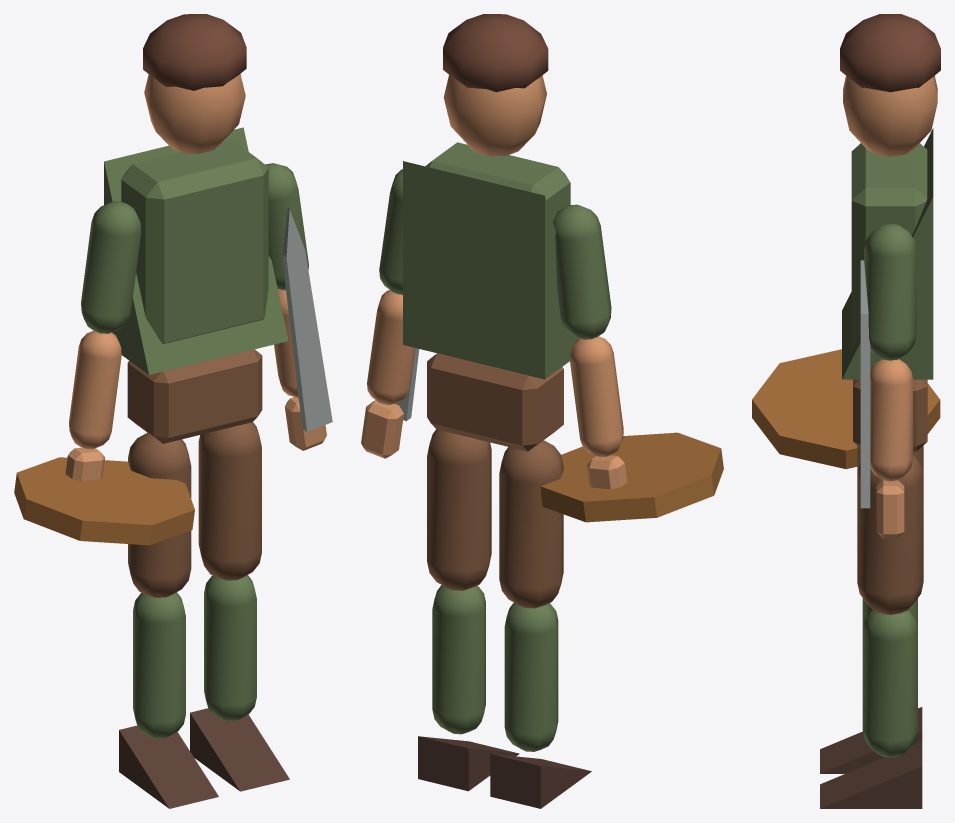
Rendered from adventurer.rustic.glb.
3 views of the same model, side by side, from view 1: azimuth 30°, elevation 25°; view 2: azimuth 150°, elevation 25°; view 3: azimuth 270°, elevation 25° (orthographic).
Parts seen in each view (by area): view 1: torso, shield, pelvis, thigh.right, tunic, shin.right, shin.left, hair, upper-arm.left, thigh.left, head, sword (+7 smaller); view 2: tunic, shield, pelvis, thigh.right, thigh.left, shin.left, shin.right, hair, upper-arm.left, head, forearm.left, torso (+6 smaller); view 3: shield, shin.right, thigh.right, torso, hair, upper-arm.right, head, tunic, forearm.right, foot.right, sword, foot.left (+2 smaller).
Part boxes in pixels (box(x1,y1,x2,y2)): torso: box(121, 140, 268, 343); shield: box(14, 457, 194, 545); pelvis: box(127, 349, 262, 443); thigh.right: box(198, 422, 261, 580); tunic: box(104, 127, 288, 374); shin.right: box(204, 575, 256, 721); shin.left: box(133, 592, 185, 738); hair: box(143, 14, 246, 90); upper-arm.left: box(81, 201, 141, 333); thigh.left: box(128, 432, 191, 597); head: box(144, 74, 245, 153); sword: box(282, 208, 332, 431); tunic: box(403, 161, 579, 379); shield: box(540, 432, 723, 522); pelvis: box(427, 353, 563, 451); thigh.right: box(427, 429, 491, 590); thigh.left: box(499, 440, 563, 608); shin.left: box(504, 603, 558, 751); shin.right: box(432, 585, 485, 734); hair: box(443, 14, 548, 92); upper-arm.left: box(553, 204, 611, 339); head: box(443, 75, 546, 156); forearm.left: box(570, 336, 623, 457); torso: box(425, 142, 570, 221); shield: box(752, 349, 940, 469); shin.right: box(862, 610, 917, 757); thigh.right: box(857, 455, 923, 614); torso: box(851, 143, 927, 347); hair: box(840, 14, 940, 92); upper-arm.right: box(864, 223, 916, 360); head: box(843, 76, 937, 156); tunic: box(842, 128, 933, 379); forearm.right: box(870, 359, 912, 481); foot.right: box(820, 742, 922, 808); sword: box(860, 260, 870, 508); foot.left: box(820, 707, 922, 773).
Bounding box in the file's own units: 1.36 × 3.03 × 0.6826.
